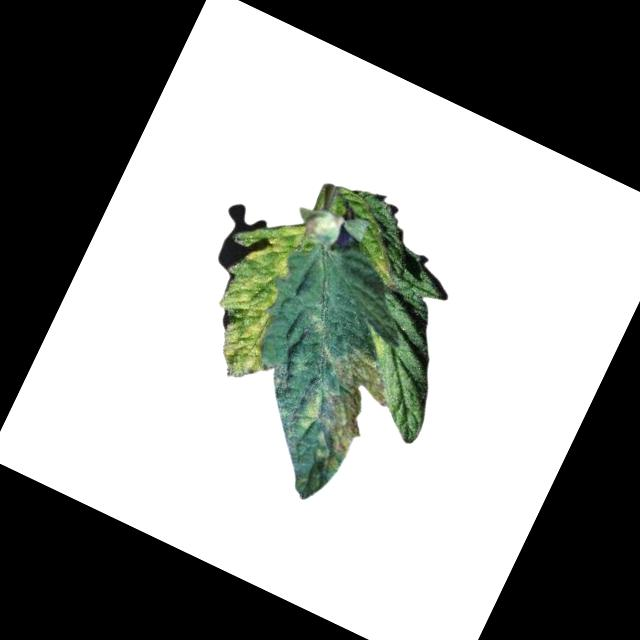Leaf_Mold: (175, 197, 327, 387), (256, 330, 405, 514), (363, 249, 405, 292)
